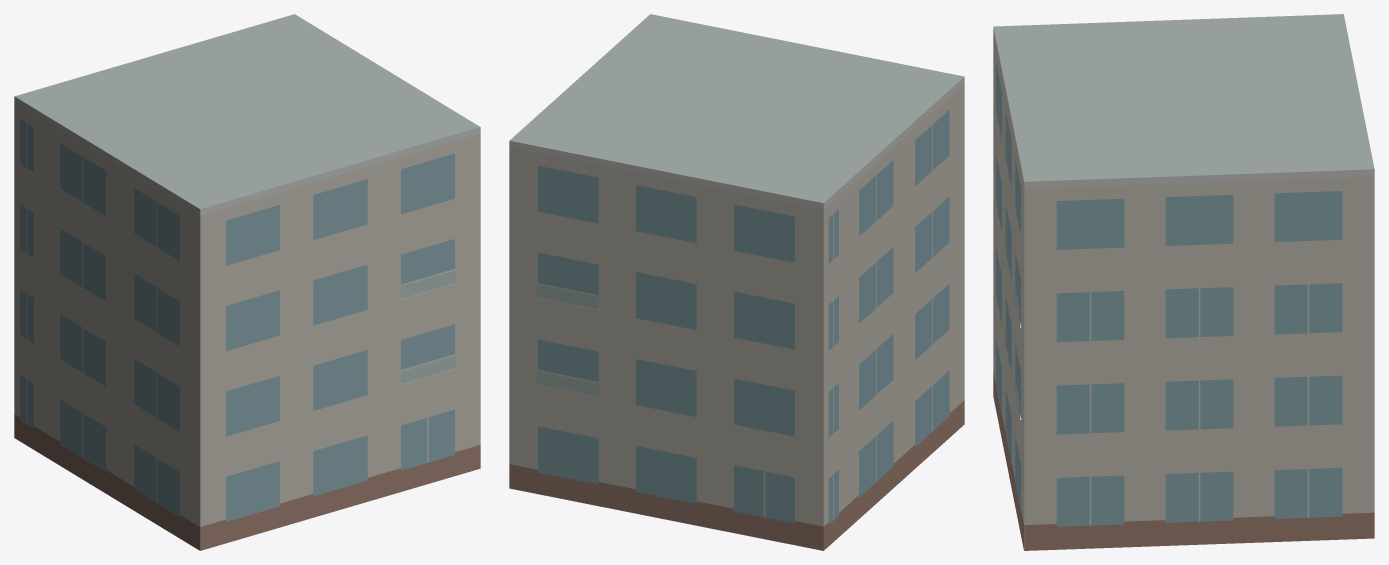
File: residential-0257a9da-df42-41e1-8131-5e6215b71208.glb
The picture shows the model from 3 angles, left to right: view 1: azimuth 30°, elevation 25°; view 2: azimuth 150°, elevation 25°; view 3: azimuth 270°, elevation 25°; orthographic projection. The views are drawn at different scales.
Visible parts, largest first — view 1: residential-0257a9da-df42-41e1-8131-5e6215b71208.tmp; view 2: residential-0257a9da-df42-41e1-8131-5e6215b71208.tmp; view 3: residential-0257a9da-df42-41e1-8131-5e6215b71208.tmp.
Boxes of the visible parts, box(x1,y1,x2,y2) form: residential-0257a9da-df42-41e1-8131-5e6215b71208.tmp: box(14, 14, 480, 550); residential-0257a9da-df42-41e1-8131-5e6215b71208.tmp: box(509, 14, 964, 550); residential-0257a9da-df42-41e1-8131-5e6215b71208.tmp: box(993, 14, 1374, 550).
Bounding box in the file's own units: 11.9 × 12.2 × 11.43.
